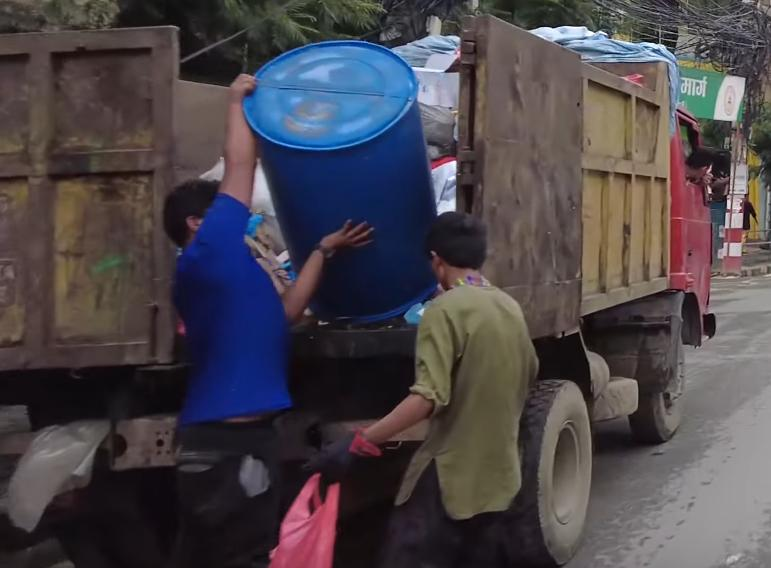mini_truck: (0, 13, 716, 568)
